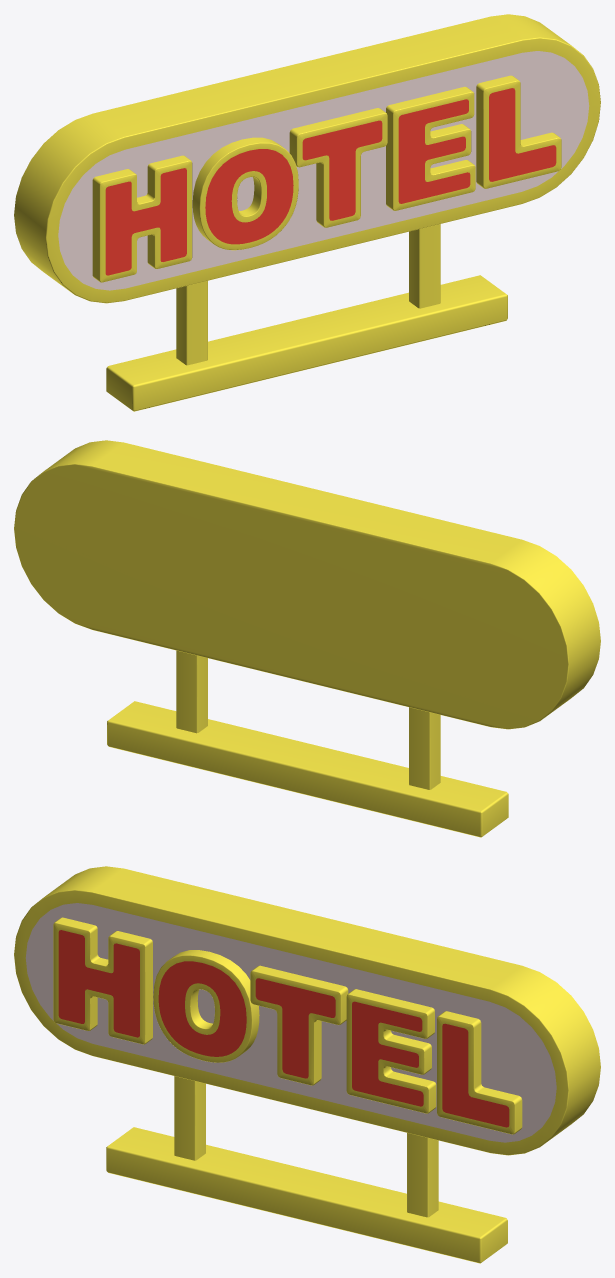
The model's file is Public_7_Hotel_Sign_1.glb.
3 views of the same model, one above another, from view 1: azimuth 30°, elevation 25°; view 2: azimuth 150°, elevation 25°; view 3: azimuth 330°, elevation 25° (orthographic).
Visible parts, largest first — view 1: Public_7_Hotel_Sign_1; view 2: Public_7_Hotel_Sign_1; view 3: Public_7_Hotel_Sign_1.
Part boxes in pixels (x1,y1,x2,y2): Public_7_Hotel_Sign_1: (14, 14, 600, 411); Public_7_Hotel_Sign_1: (14, 440, 600, 837); Public_7_Hotel_Sign_1: (14, 866, 600, 1263).
Size of the model in its own units: 5.03 by 2.43 by 0.6224.
Materials: 1 (1 with a texture image).
